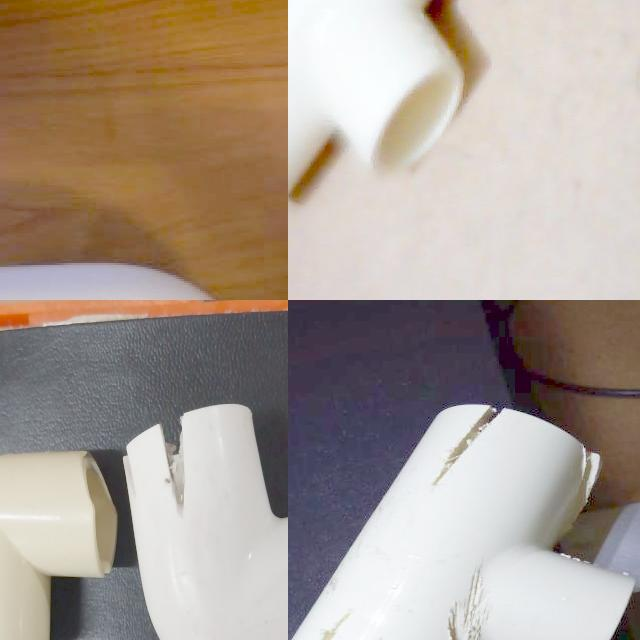Defective: (428, 409, 499, 492), (549, 445, 601, 549)
L Joint: (0, 456, 105, 640)
T Joint: (289, 405, 636, 640), (288, 0, 462, 193)
